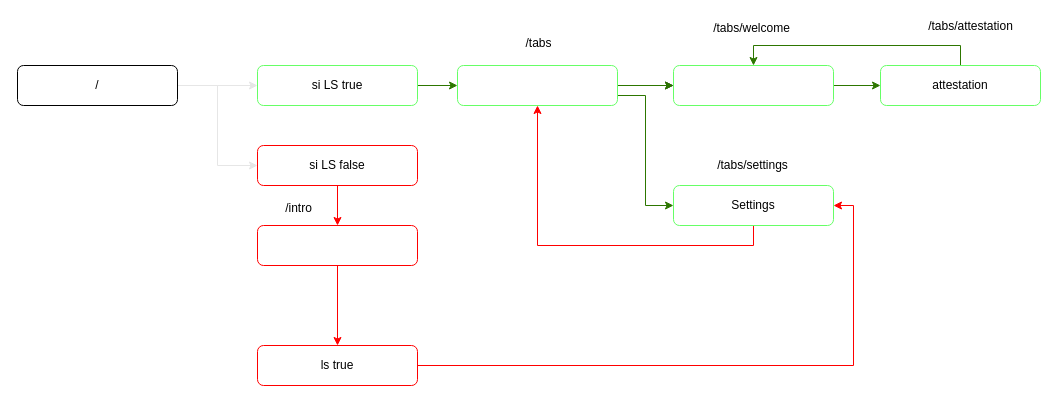
The diagram is 1058 pixels wide and 403 high, and some of its shapes have lost their labels. Here are the shapes that lost their labels. From the top down, the centre of each, then its label:
At (x=537, y=85): "Tab".
At (x=753, y=85): "Welcome".
At (x=337, y=245): "Slide - intro".
